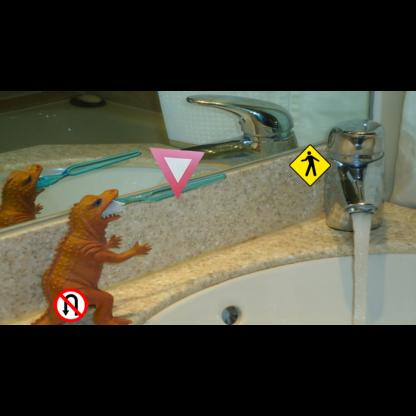A-32a: (289, 144, 332, 187)
R-2: (149, 147, 205, 200)
R-5a: (54, 288, 88, 322)
